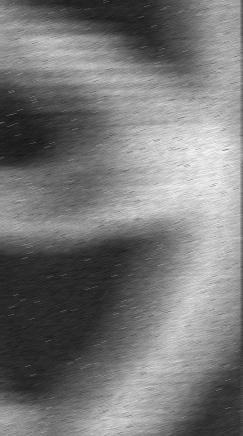Airbag: (0, 0, 242, 436), (241, 0, 243, 436)
